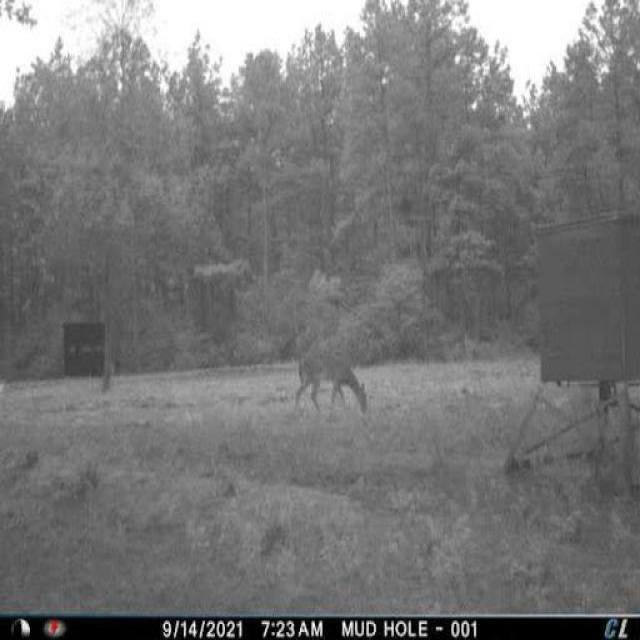deer: (290, 339, 375, 425)
